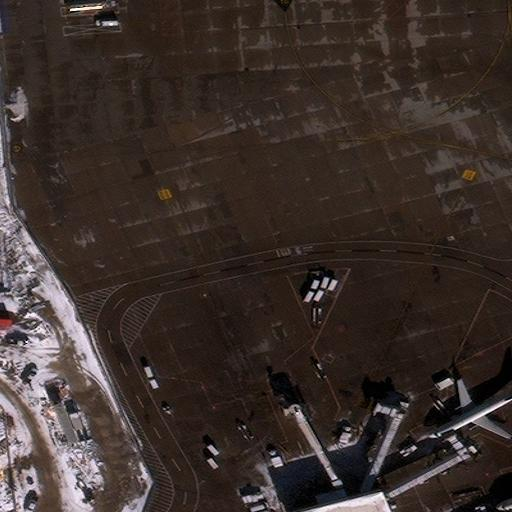Medium Civil Transport: (427, 379, 512, 439)
